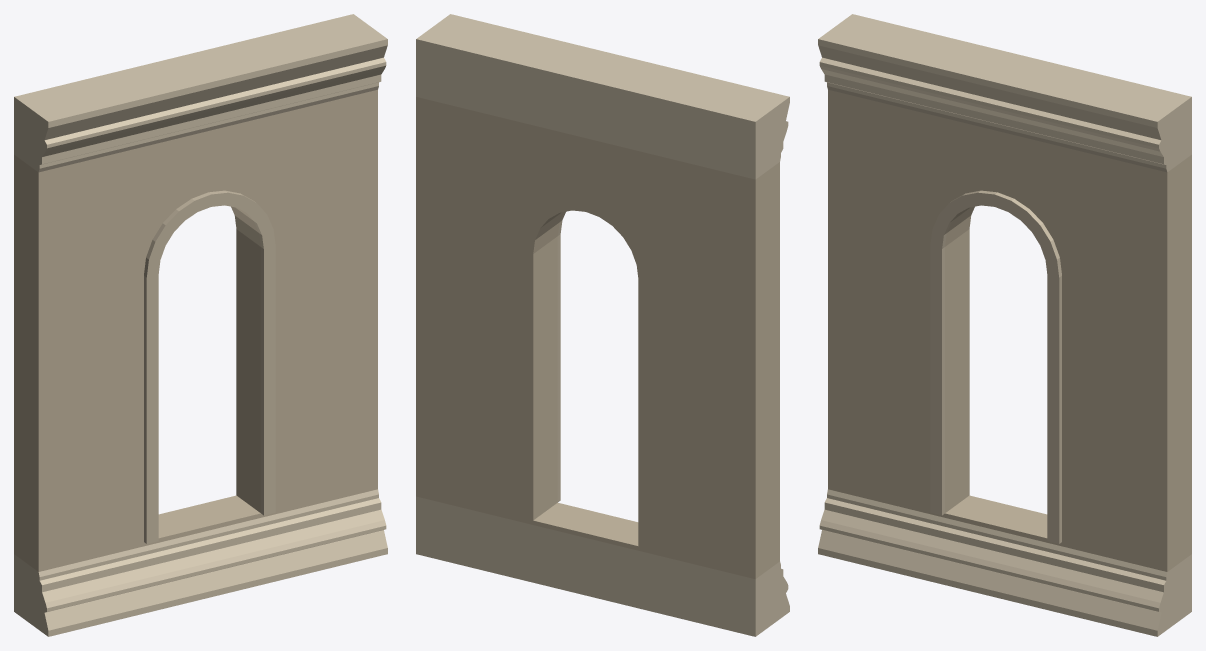
Rendered from T03_Bell_Stage_Wall.glb.
3 renders of one model, left to right at view 1: azimuth 30°, elevation 25°; view 2: azimuth 150°, elevation 25°; view 3: azimuth 330°, elevation 25°, orthographic.
Visible parts, largest first — view 1: T03_Bell_Stage_Wall; view 2: T03_Bell_Stage_Wall; view 3: T03_Bell_Stage_Wall.
Part boxes in pixels (box(x1,y1,x2,y2)): T03_Bell_Stage_Wall: box(14, 14, 387, 636); T03_Bell_Stage_Wall: box(416, 14, 789, 636); T03_Bell_Stage_Wall: box(818, 14, 1191, 636).
Bounding box in the file's own units: 4 × 5.8 × 0.7.
